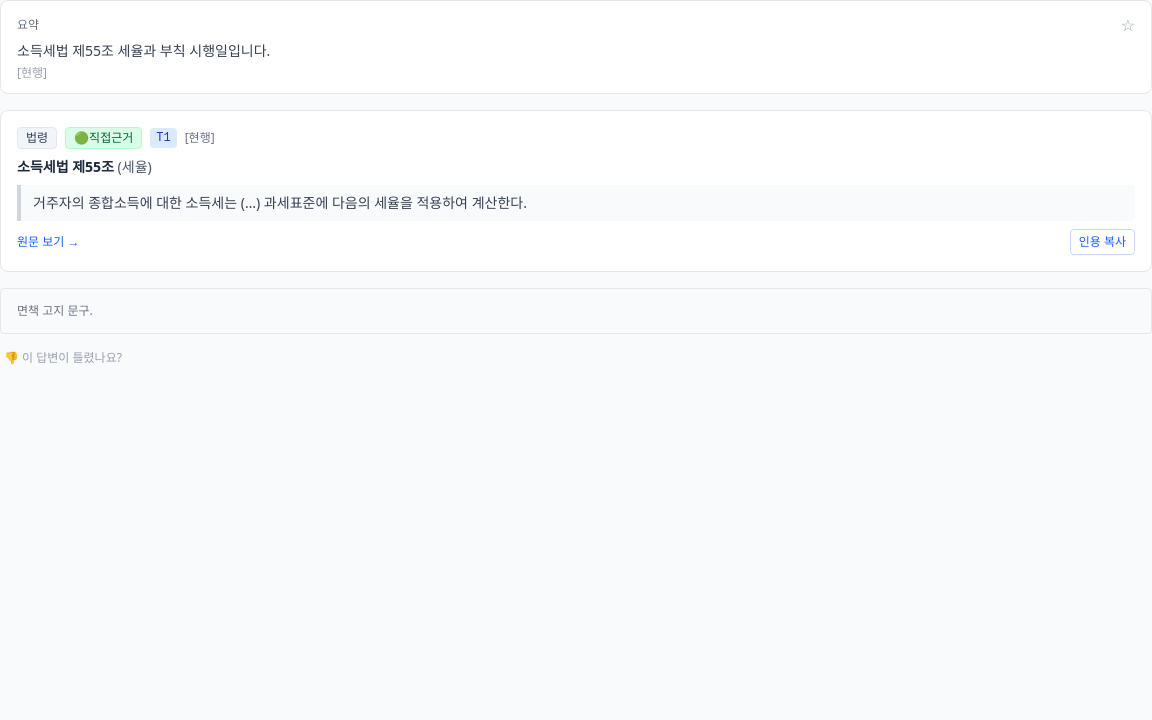
it: AnswerCard — 조용한 틀림 신고 👎 (TAX-030-B, FR-24) › 버튼 클릭 시 사유 입력창과 신고 버튼이 노출된다
Click the button with test id "feedback-open-btn". click: (63, 358)
box: [4,350,122,366]
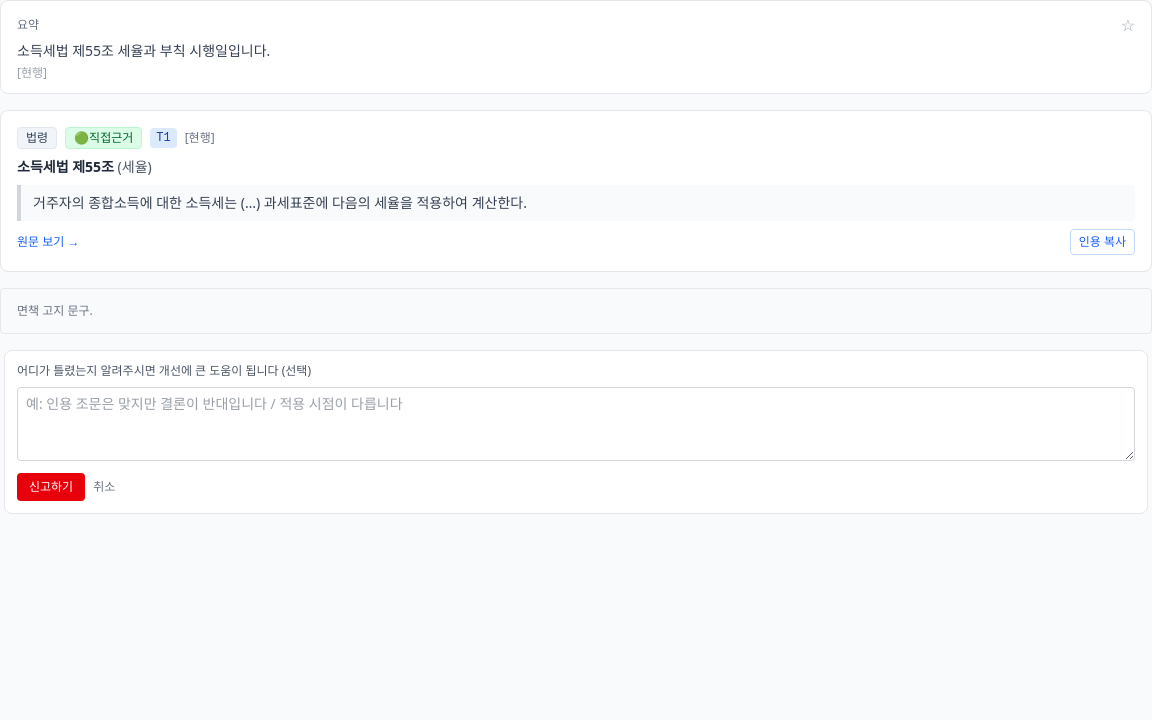
expect the text box with test id "feedback-reason-input" is shown: met, box [17,386,1135,460]
expect the button with test id "feedback-submit-btn" is shown: met, box [17,472,85,500]
